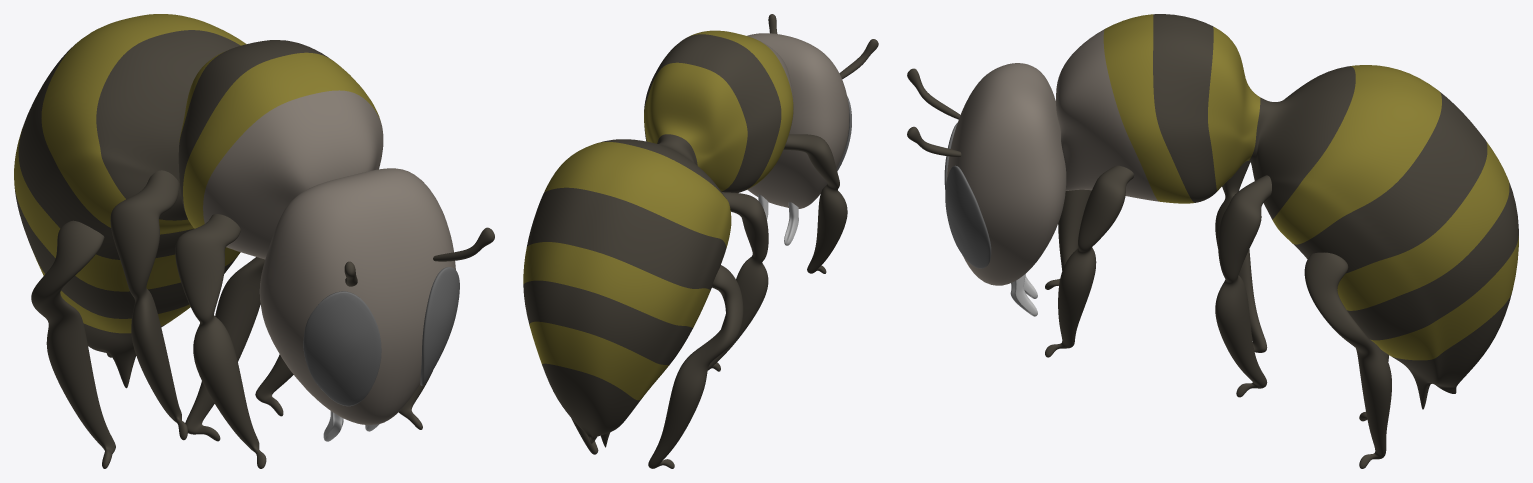
Rendered from Bee_Flying_Textured.fbx.
The picture shows the model from 3 angles, left to right: view 1: azimuth 30°, elevation 25°; view 2: azimuth 150°, elevation 25°; view 3: azimuth 270°, elevation 25°; orthographic projection. The views are drawn at different scales.
Visible parts, largest first — view 1: polySurface75; view 2: polySurface75; view 3: polySurface75.
Part boxes in pixels (x1=…): polySurface75: x1=14, y1=14, x2=494, y2=468; polySurface75: x1=523, y1=14, x2=878, y2=468; polySurface75: x1=907, y1=14, x2=1518, y2=468.
Bounding box in the file's own units: 6.91 × 11.91 × 15.67.
